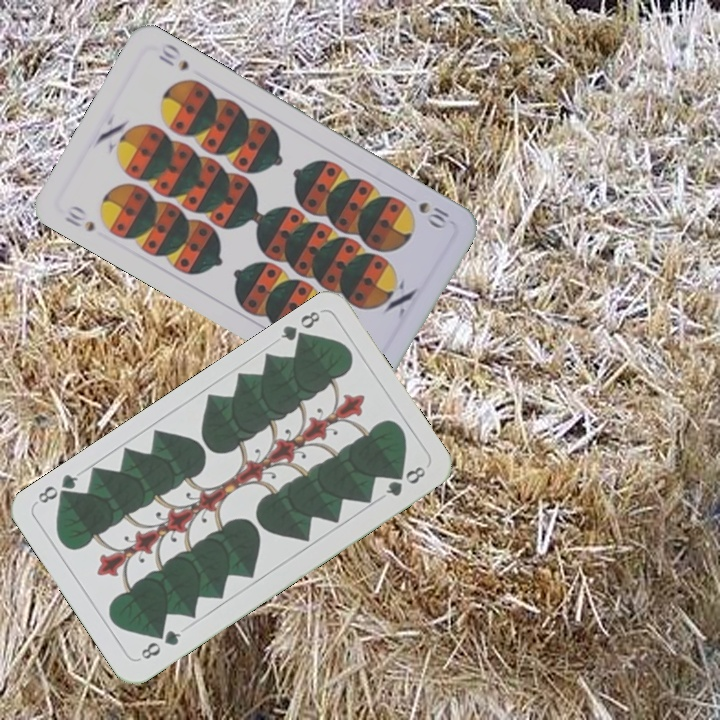G8: (276, 306, 323, 349), (135, 625, 184, 663)
S10: (60, 201, 98, 235), (414, 197, 452, 229)
